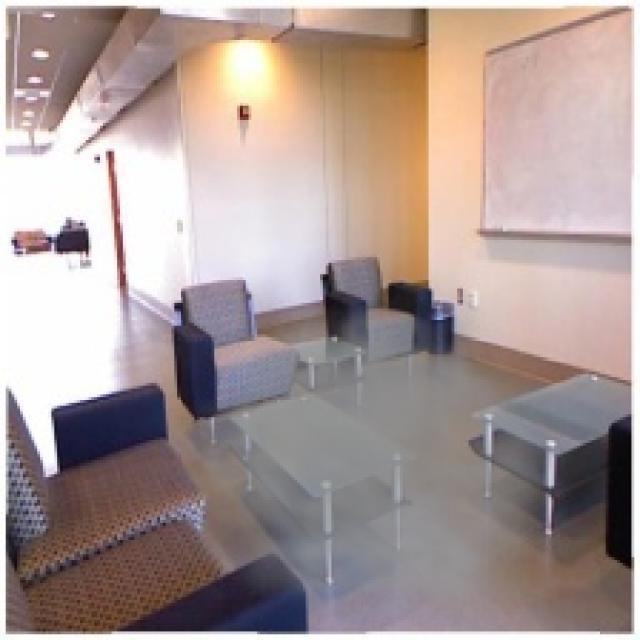Smoke: (166, 268, 583, 626)
